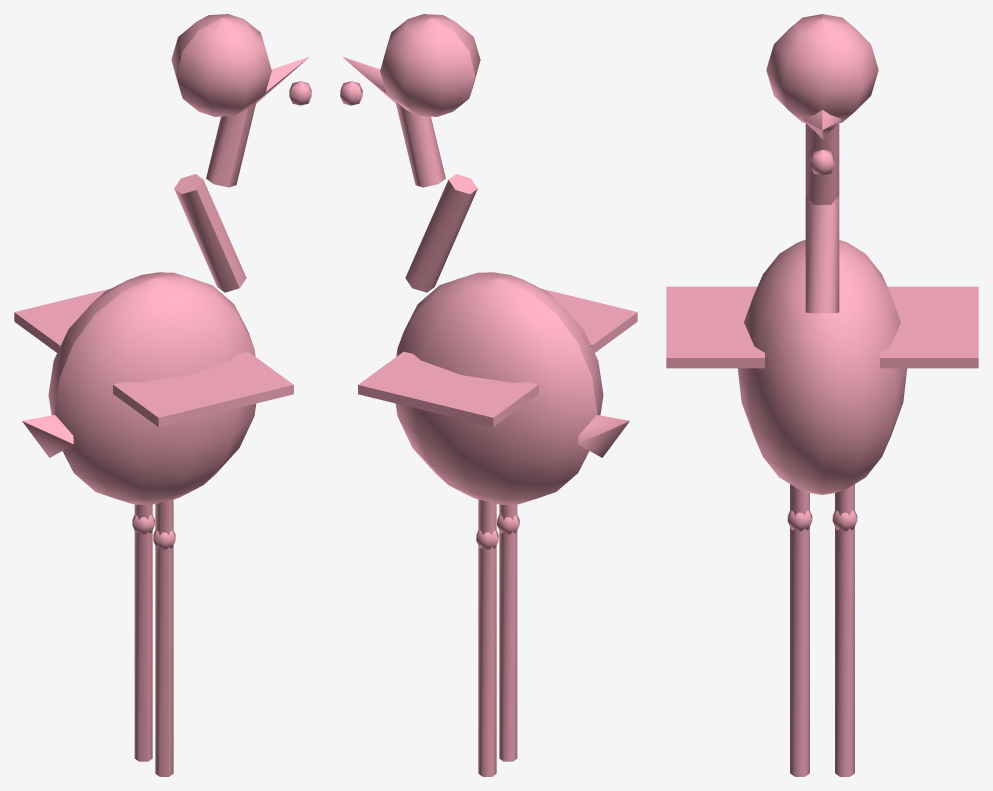
The model's file is flamingo.glb.
3 views of the same model, side by side, from view 1: azimuth 30°, elevation 25°; view 2: azimuth 150°, elevation 25°; view 3: azimuth 270°, elevation 25° (orthographic). The views are drawn at different scales.
Parts seen in each view (by area): view 1: Bird; view 2: Bird; view 3: Bird.
Boxes of the visible parts, <box> form: Bird: <box>14,14,311,776</box>; Bird: <box>340,14,637,776</box>; Bird: <box>666,14,978,776</box>.
Bounding box in the file's own units: 0.415 × 1 × 0.3581.
